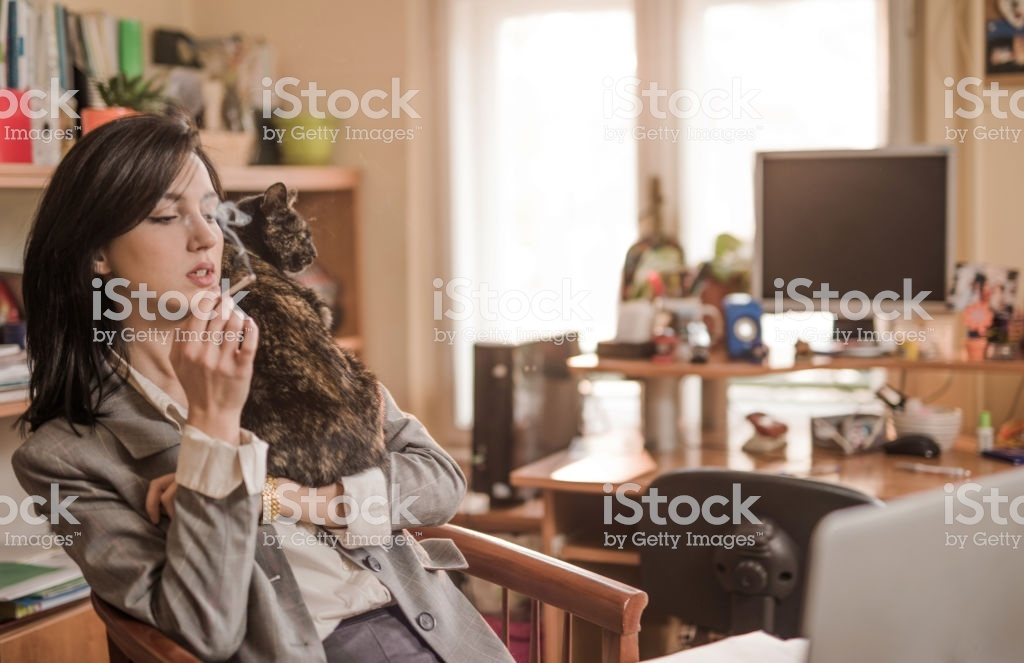sigaretta: (212, 267, 254, 306)
